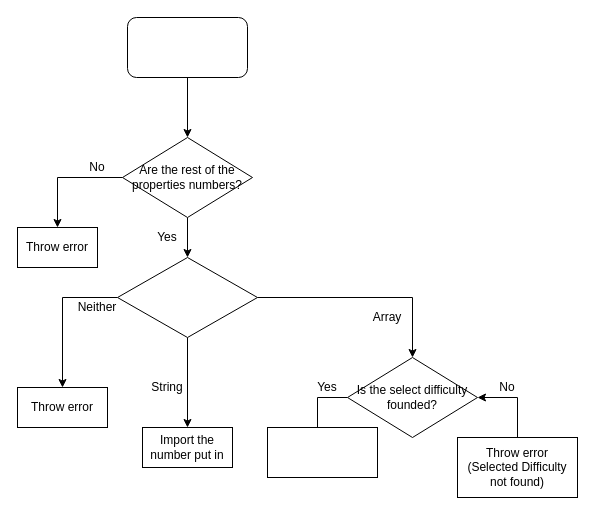
Image size: 595x515. Some labels were removed from this diagram. The centre of each missing label's shape, as x and y in pixels:
Import the number for said difficulty: point 322,452
Is property attack an array or number?: point 187,297
Scan for the correct mob name and load as object when found: point 187,47
